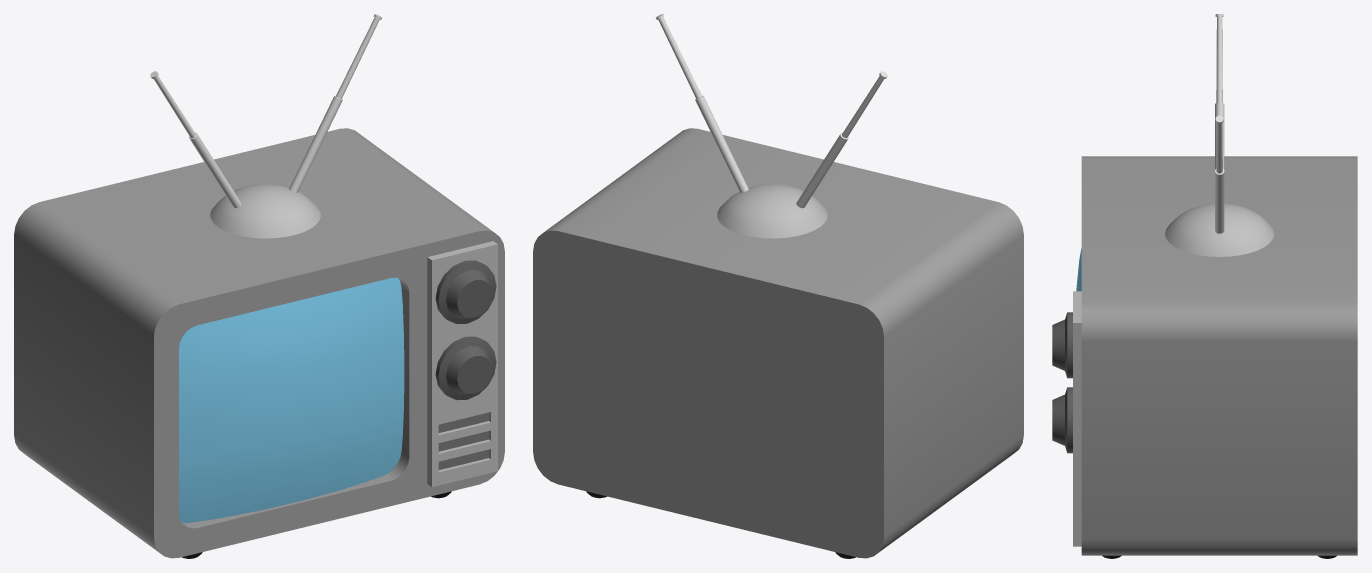
The model's file is television.glb.
3 views of the same model, side by side, from view 1: azimuth 30°, elevation 25°; view 2: azimuth 150°, elevation 25°; view 3: azimuth 270°, elevation 25° (orthographic).
Visible parts, largest first — view 1: Cube.938; view 2: Cube.938; view 3: Cube.938.
Boxes of the visible parts, box(x1,y1,x2,y2) form: Cube.938: box(14, 14, 504, 558); Cube.938: box(533, 14, 1023, 558); Cube.938: box(1052, 14, 1357, 558).
Size of the model in its own units: 1.84 by 2.22 by 1.4.
1 material, 1 textured.
